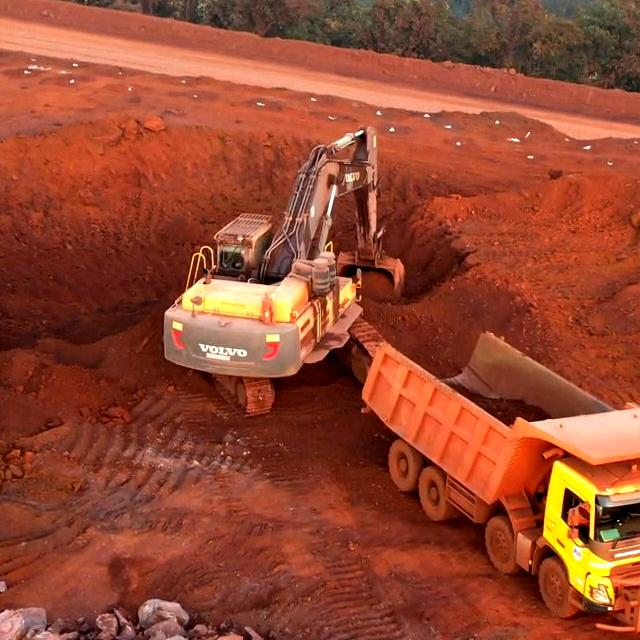Dumper truck: (466, 426, 640, 603)
Excavator: (176, 229, 339, 376)
